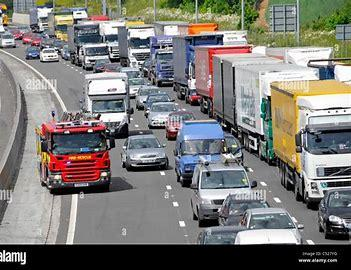Fire-engine: (37, 108, 127, 207)
